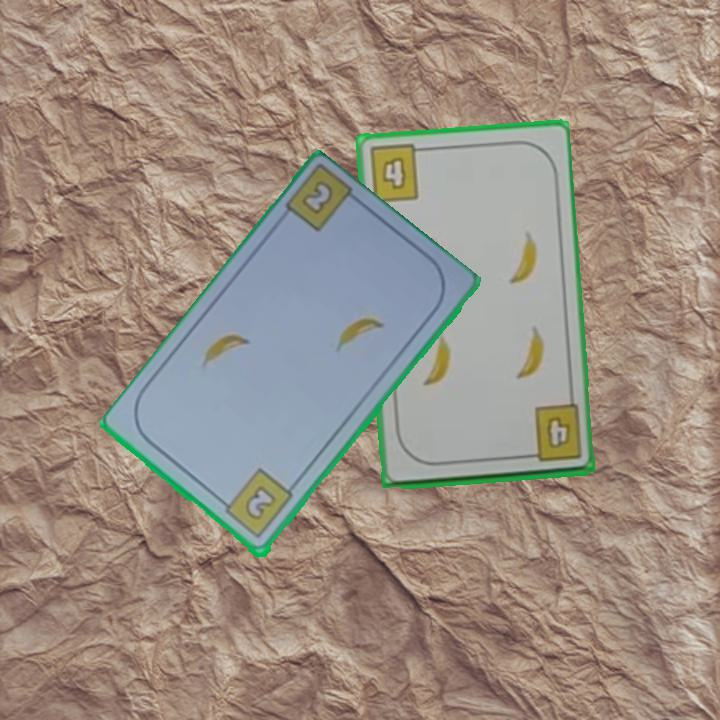2b: (216, 466, 296, 543), (301, 180, 333, 215)
4b: (520, 401, 585, 465), (365, 141, 429, 205)
